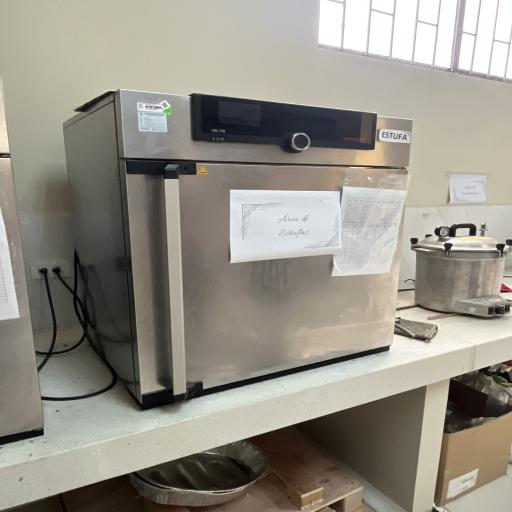Estufa_Memmert: (51, 81, 422, 414)
